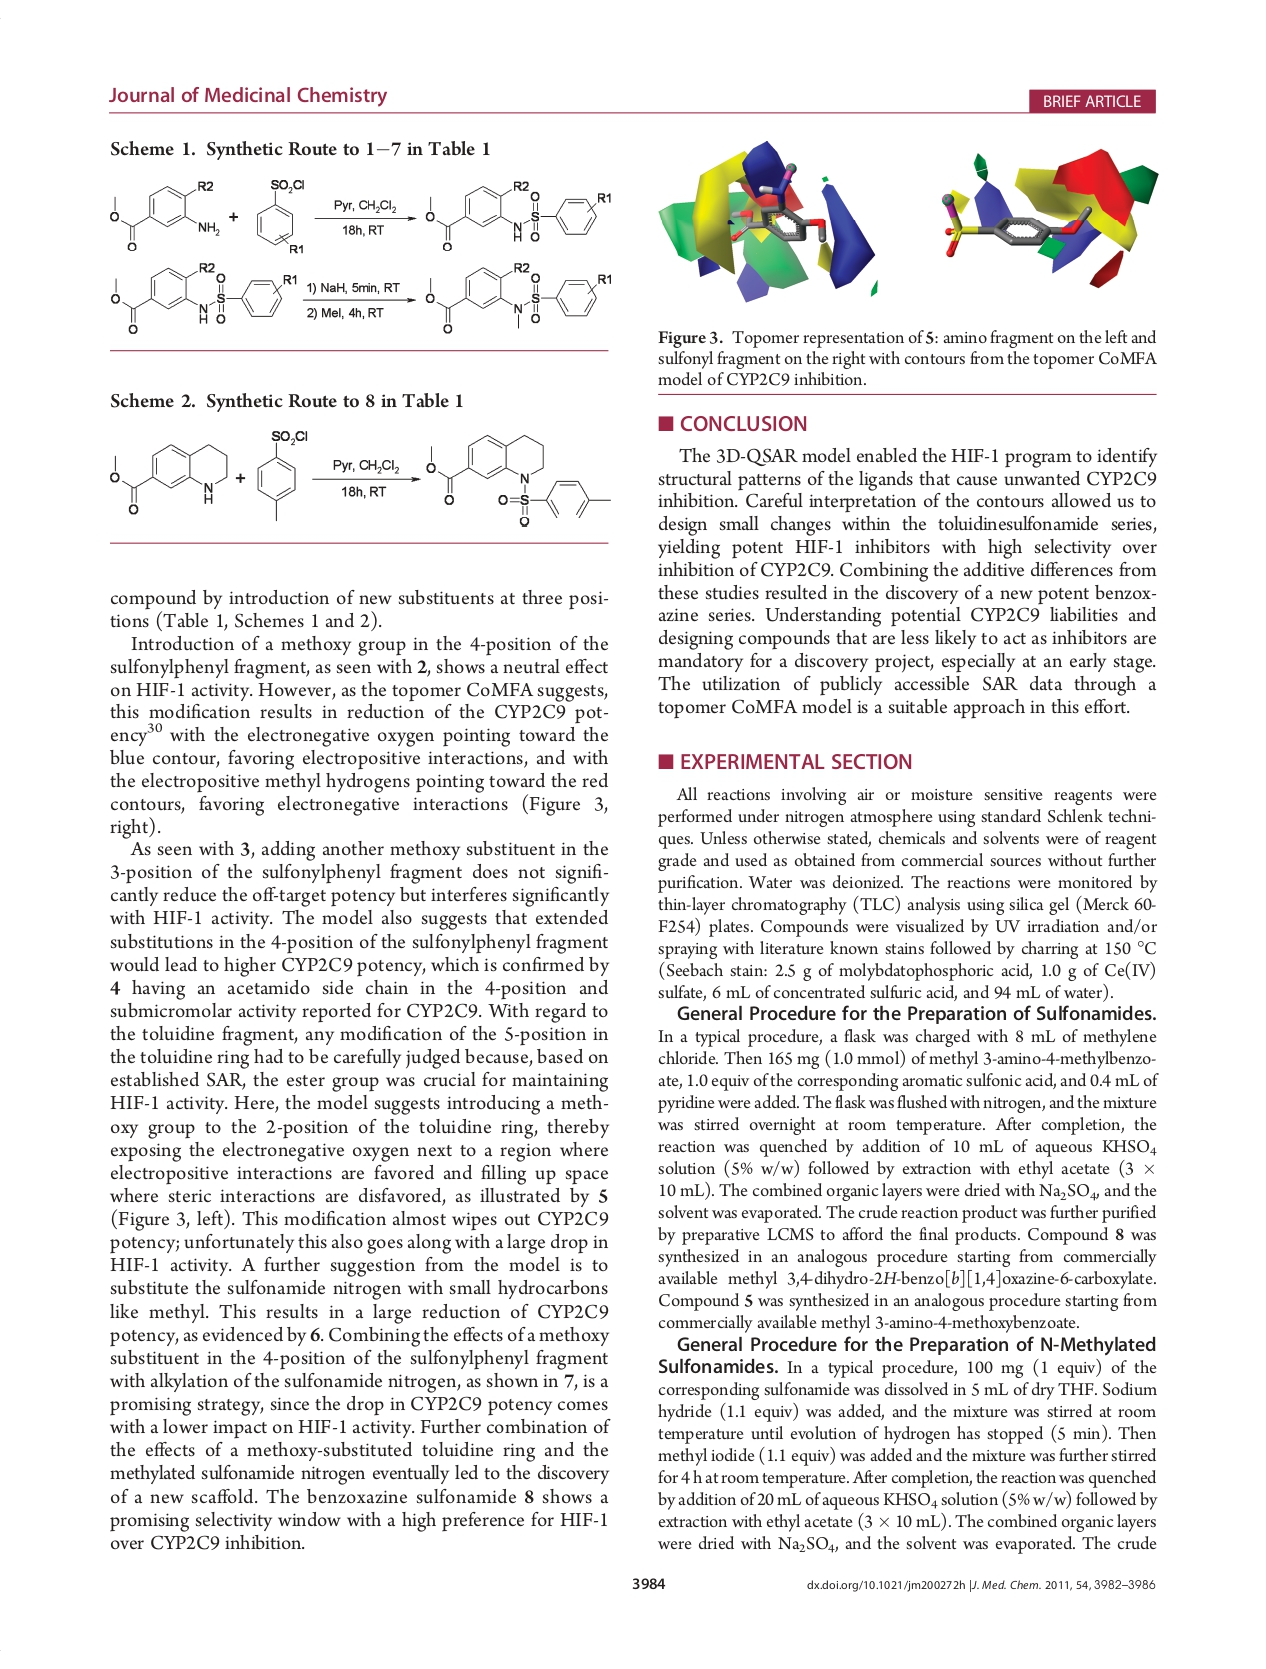exist_molecular: (423, 434, 613, 531), (422, 259, 613, 339), (422, 177, 612, 255), (106, 259, 299, 336), (102, 439, 230, 519), (104, 176, 221, 253), (253, 422, 310, 524), (250, 176, 310, 254)
